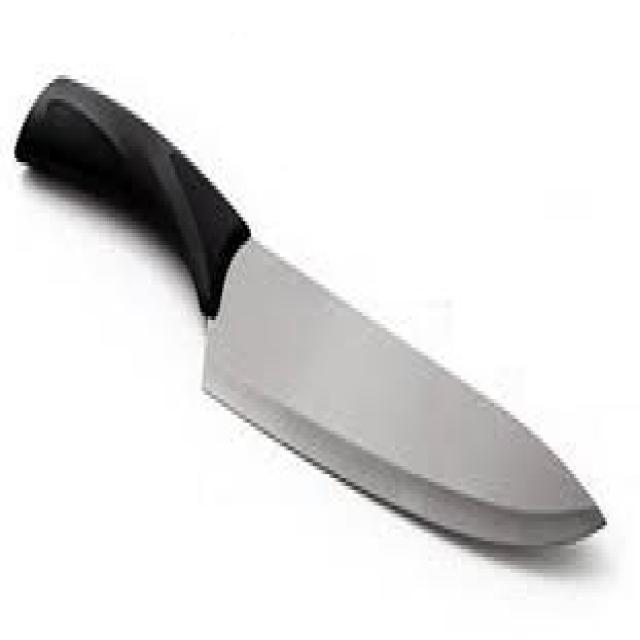knife: (13, 63, 607, 575)
